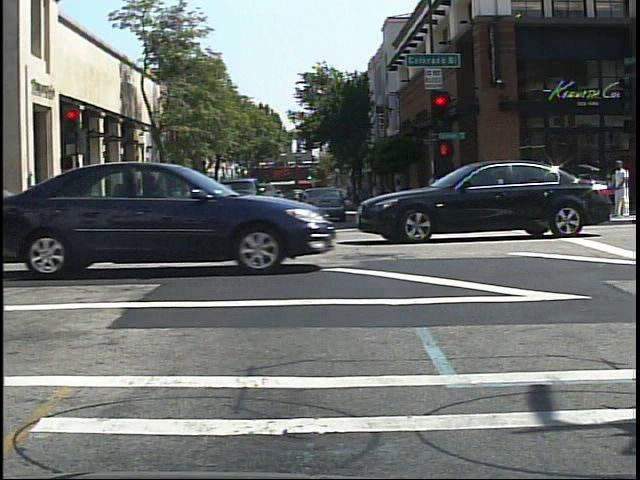person: (609, 156, 635, 221)
